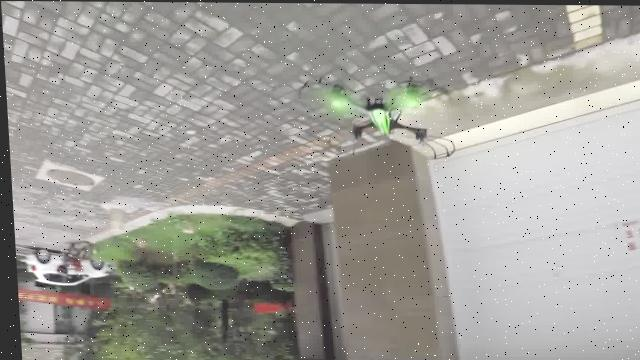drone: (302, 75, 461, 154)
